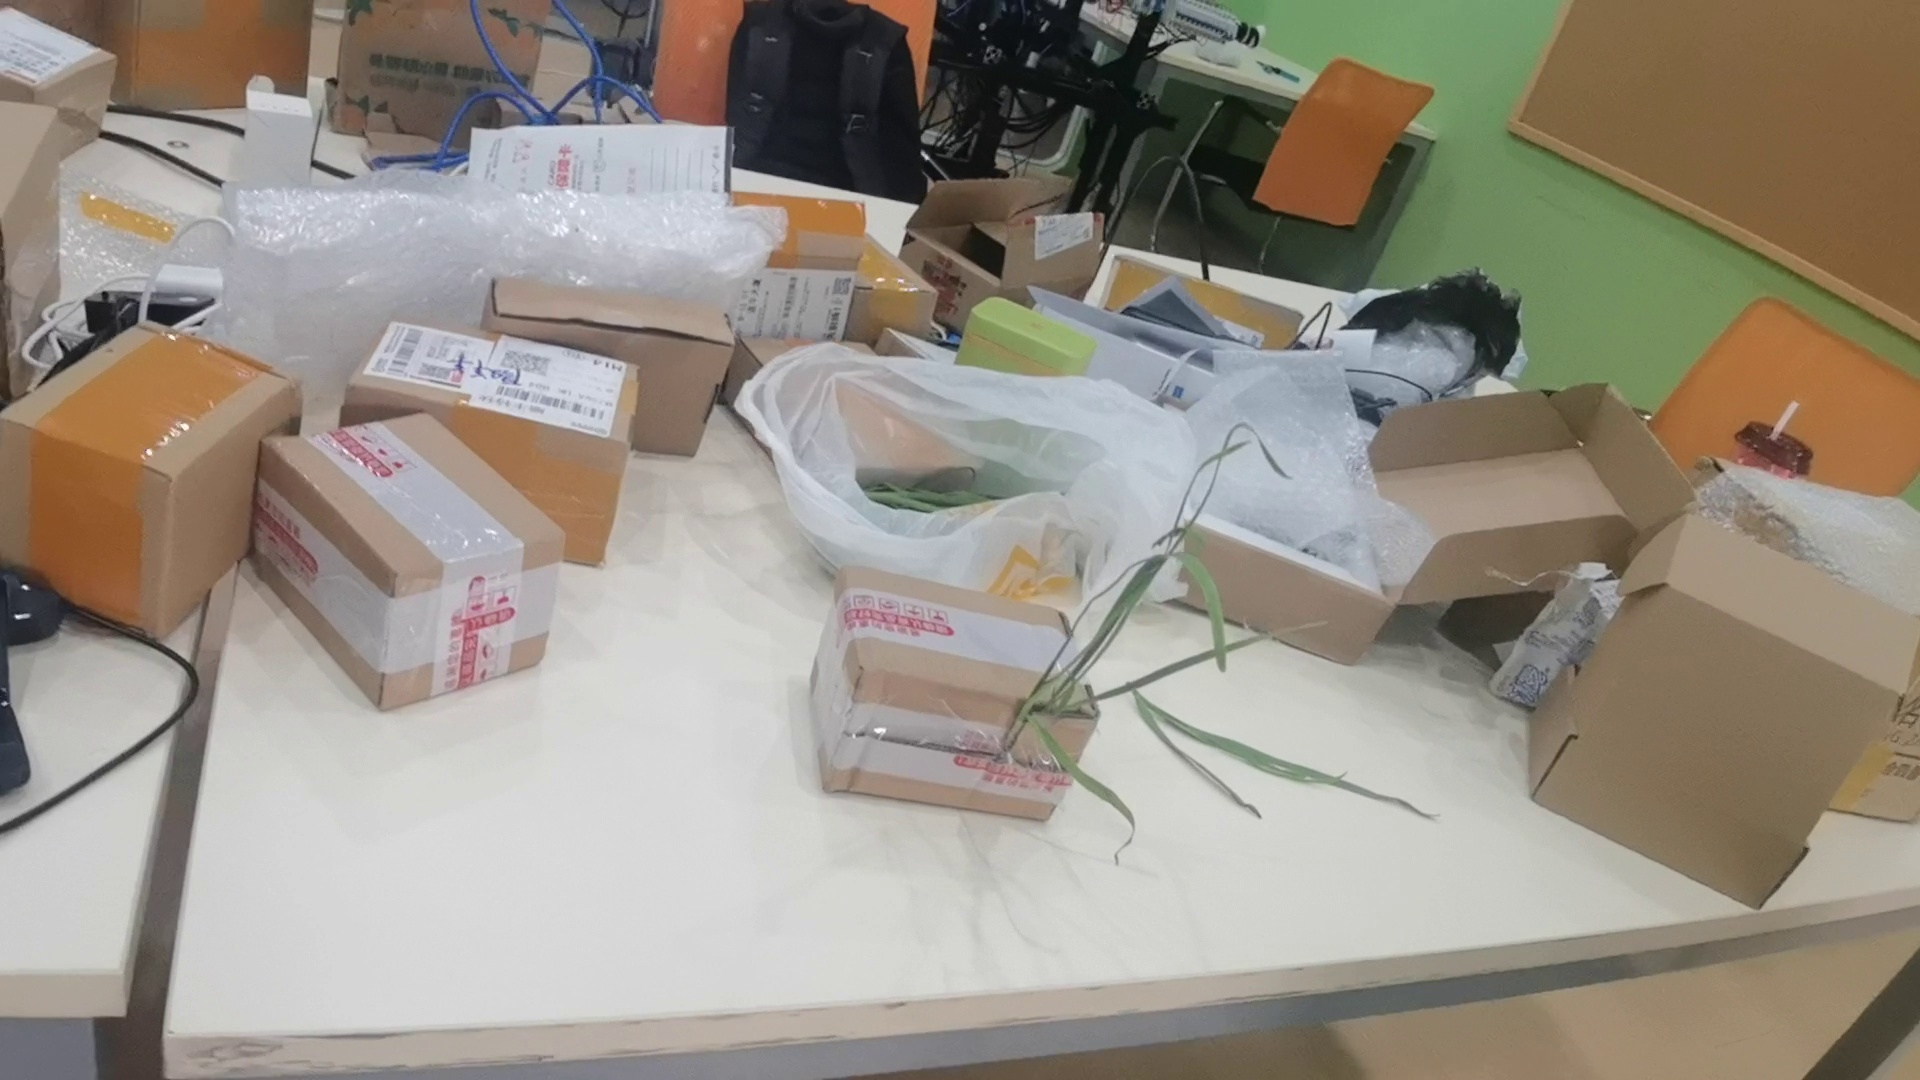chives: (977, 411, 1327, 844), (1120, 667, 1440, 833)
